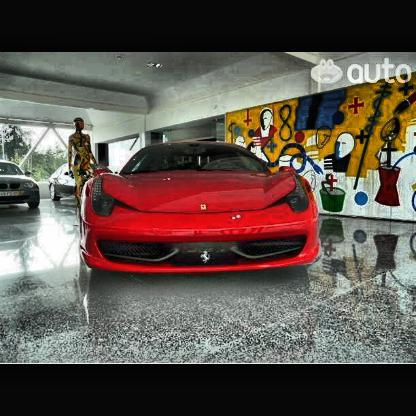Ferrari 458 Italia Coupe 2012: (80, 144, 325, 275)
